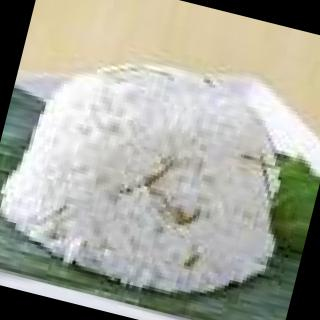Nasi: (1, 37, 306, 310)
